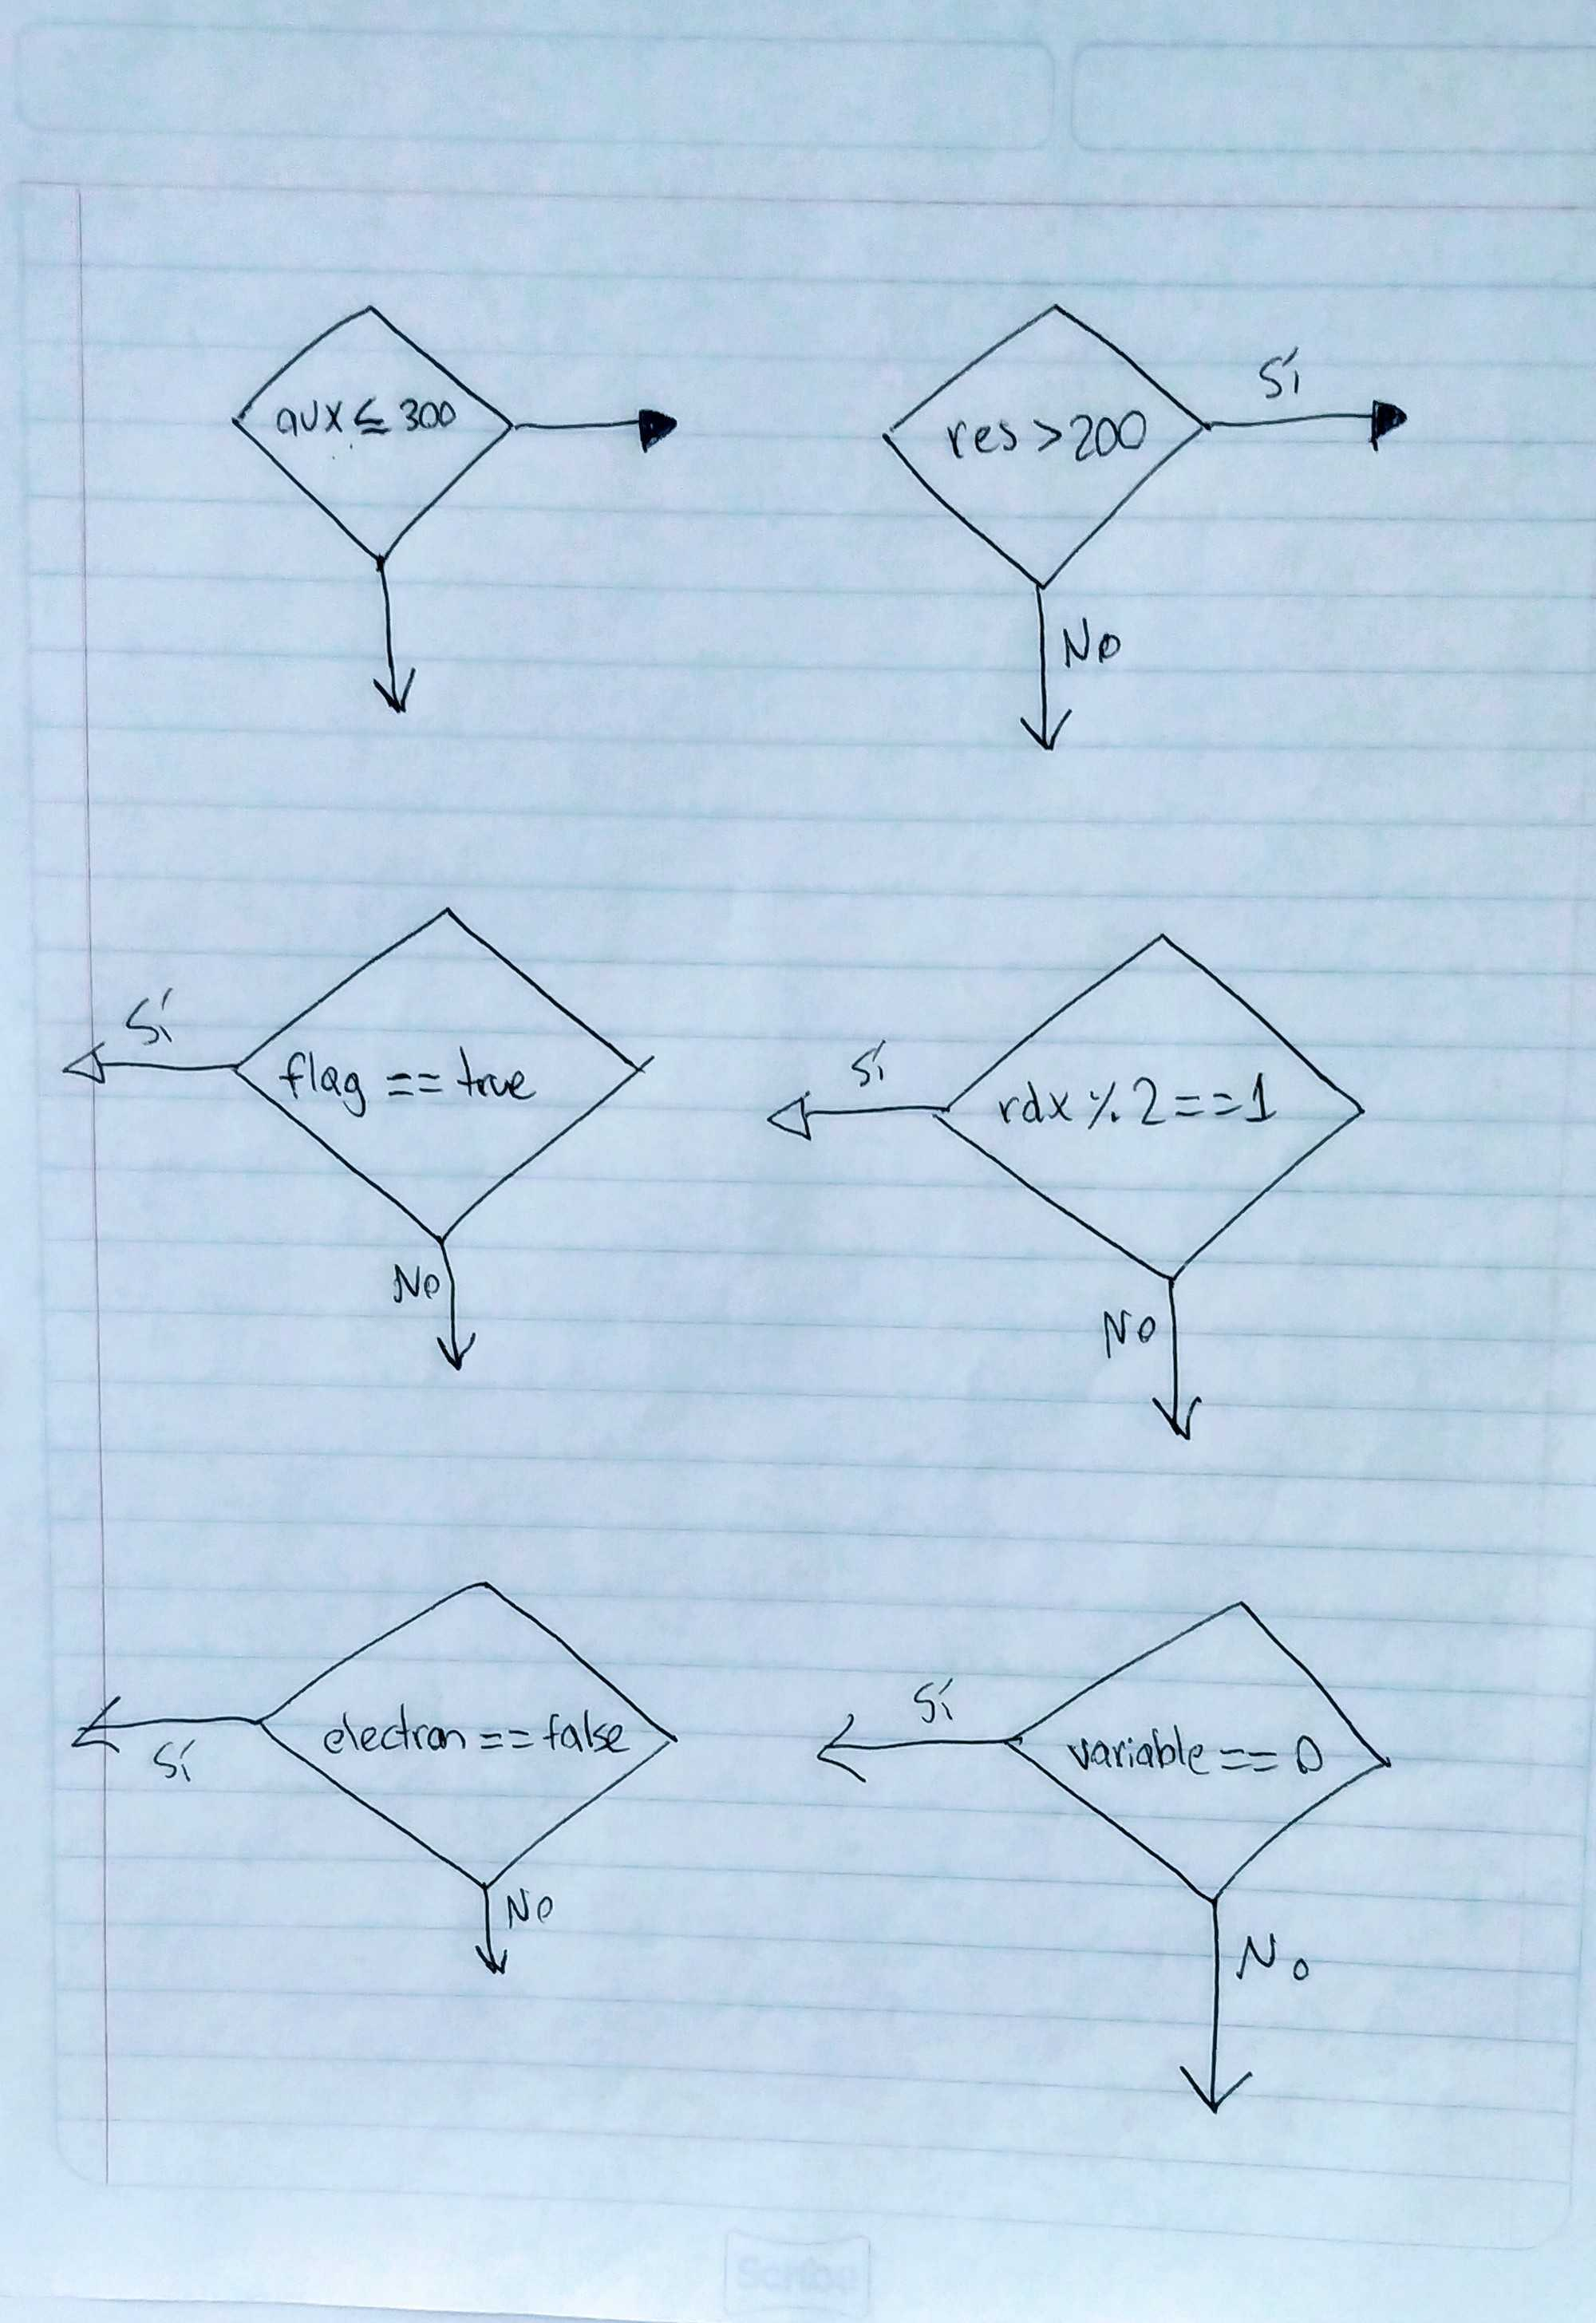arrow_line_down: (1176, 1894, 1266, 2125), (1010, 575, 1088, 768), (1139, 1280, 1218, 1456), (355, 553, 431, 729), (413, 1232, 491, 1384), (463, 1882, 514, 1984)
arrow_line_left: (805, 1703, 1010, 1792), (60, 1684, 267, 1767), (49, 1033, 244, 1114), (759, 1082, 950, 1149)
arrow_line_right: (1206, 388, 1427, 464), (505, 388, 683, 457)
decision: (930, 921, 1377, 1287), (230, 893, 666, 1253), (258, 1569, 685, 1903), (996, 1590, 1412, 1924), (872, 282, 1225, 607), (217, 288, 516, 574)
